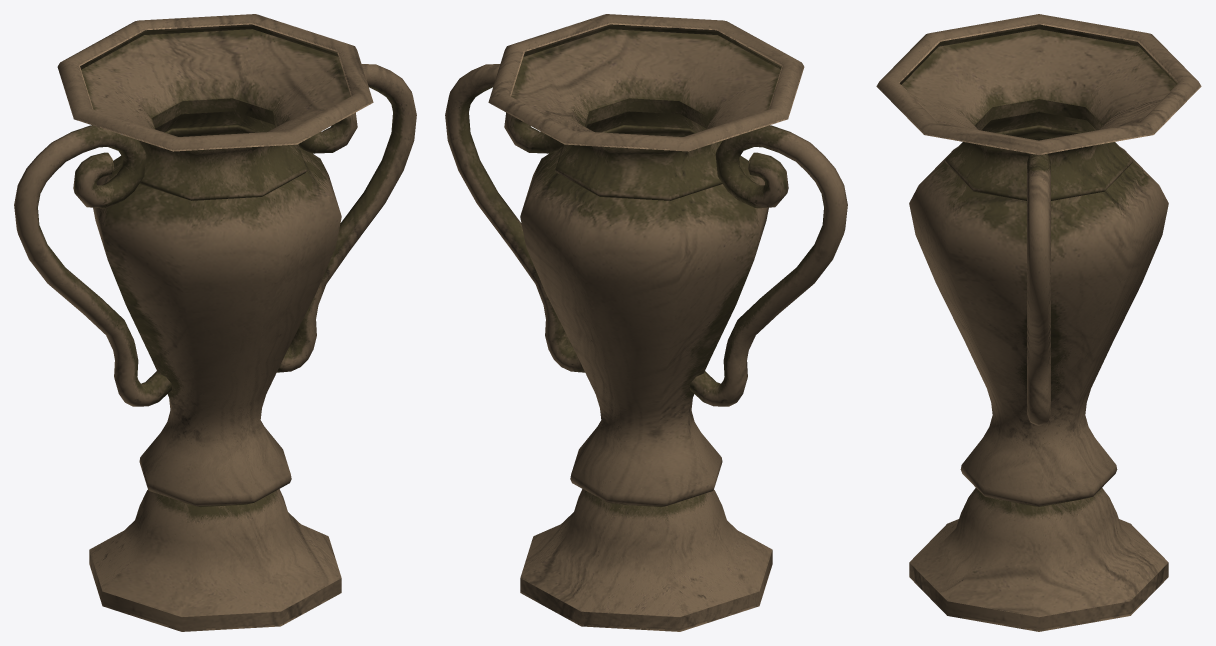
The model's file is vase.glb.
The picture shows the model from 3 angles, left to right: view 1: azimuth 30°, elevation 25°; view 2: azimuth 150°, elevation 25°; view 3: azimuth 270°, elevation 25°; orthographic projection.
Visible parts, largest first — view 1: Vase_Material #34_0; view 2: Vase_Material #34_0; view 3: Vase_Material #34_0.
Boxes of the visible parts, x1=… form: Vase_Material #34_0: x1=14, y1=14, x2=416, y2=631; Vase_Material #34_0: x1=445, y1=14, x2=847, y2=631; Vase_Material #34_0: x1=876, y1=14, x2=1201, y2=631.
Bounding box in the file's own units: 48.45 × 57.99 × 34.28.
Materials: 1 (1 with a texture image).
